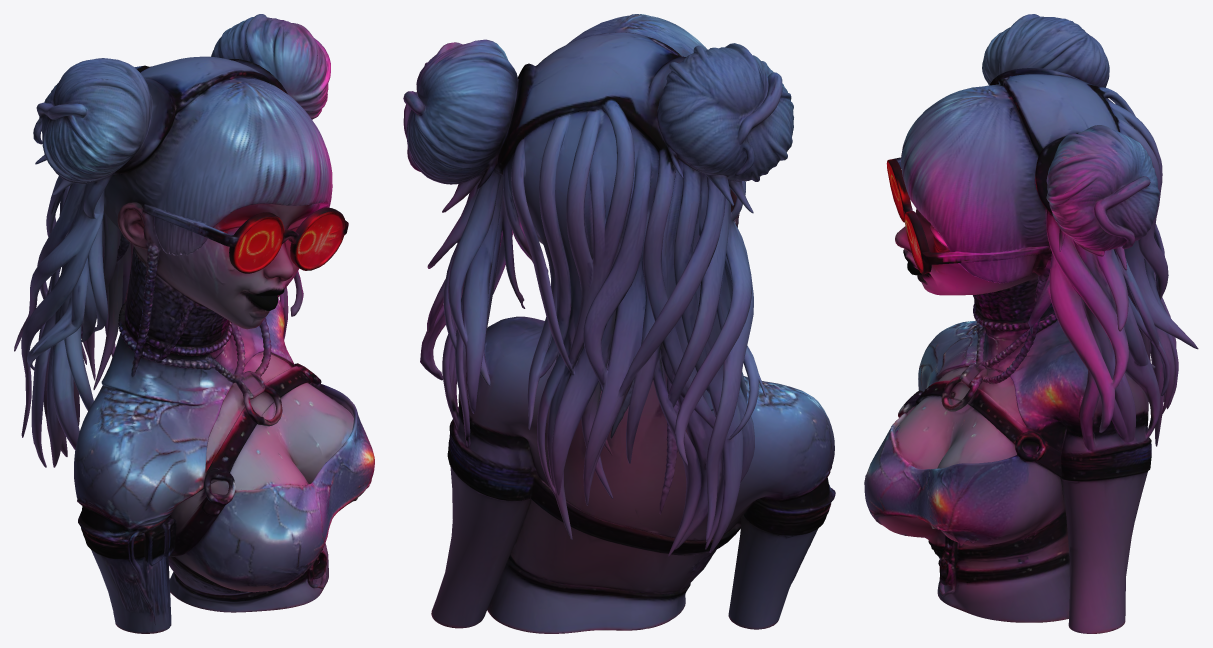
File: 01a19745-ff4a-7a4d-aff5-dd46ebd7b3e1.glb
3 renders of one model, left to right at view 1: azimuth 30°, elevation 25°; view 2: azimuth 150°, elevation 25°; view 3: azimuth 270°, elevation 25°, orthographic. The views are drawn at different scales.
Visible parts, largest first — view 1: node_0; view 2: node_0; view 3: node_0.
Part boxes in pixels (box(x1,y1,x2,y2)): node_0: box(14, 14, 374, 633); node_0: box(403, 14, 835, 633); node_0: box(864, 14, 1198, 633).
Bounding box in the file's own units: 0.6328 × 1.04 × 0.622.
Materials: 1 (1 with a texture image).
